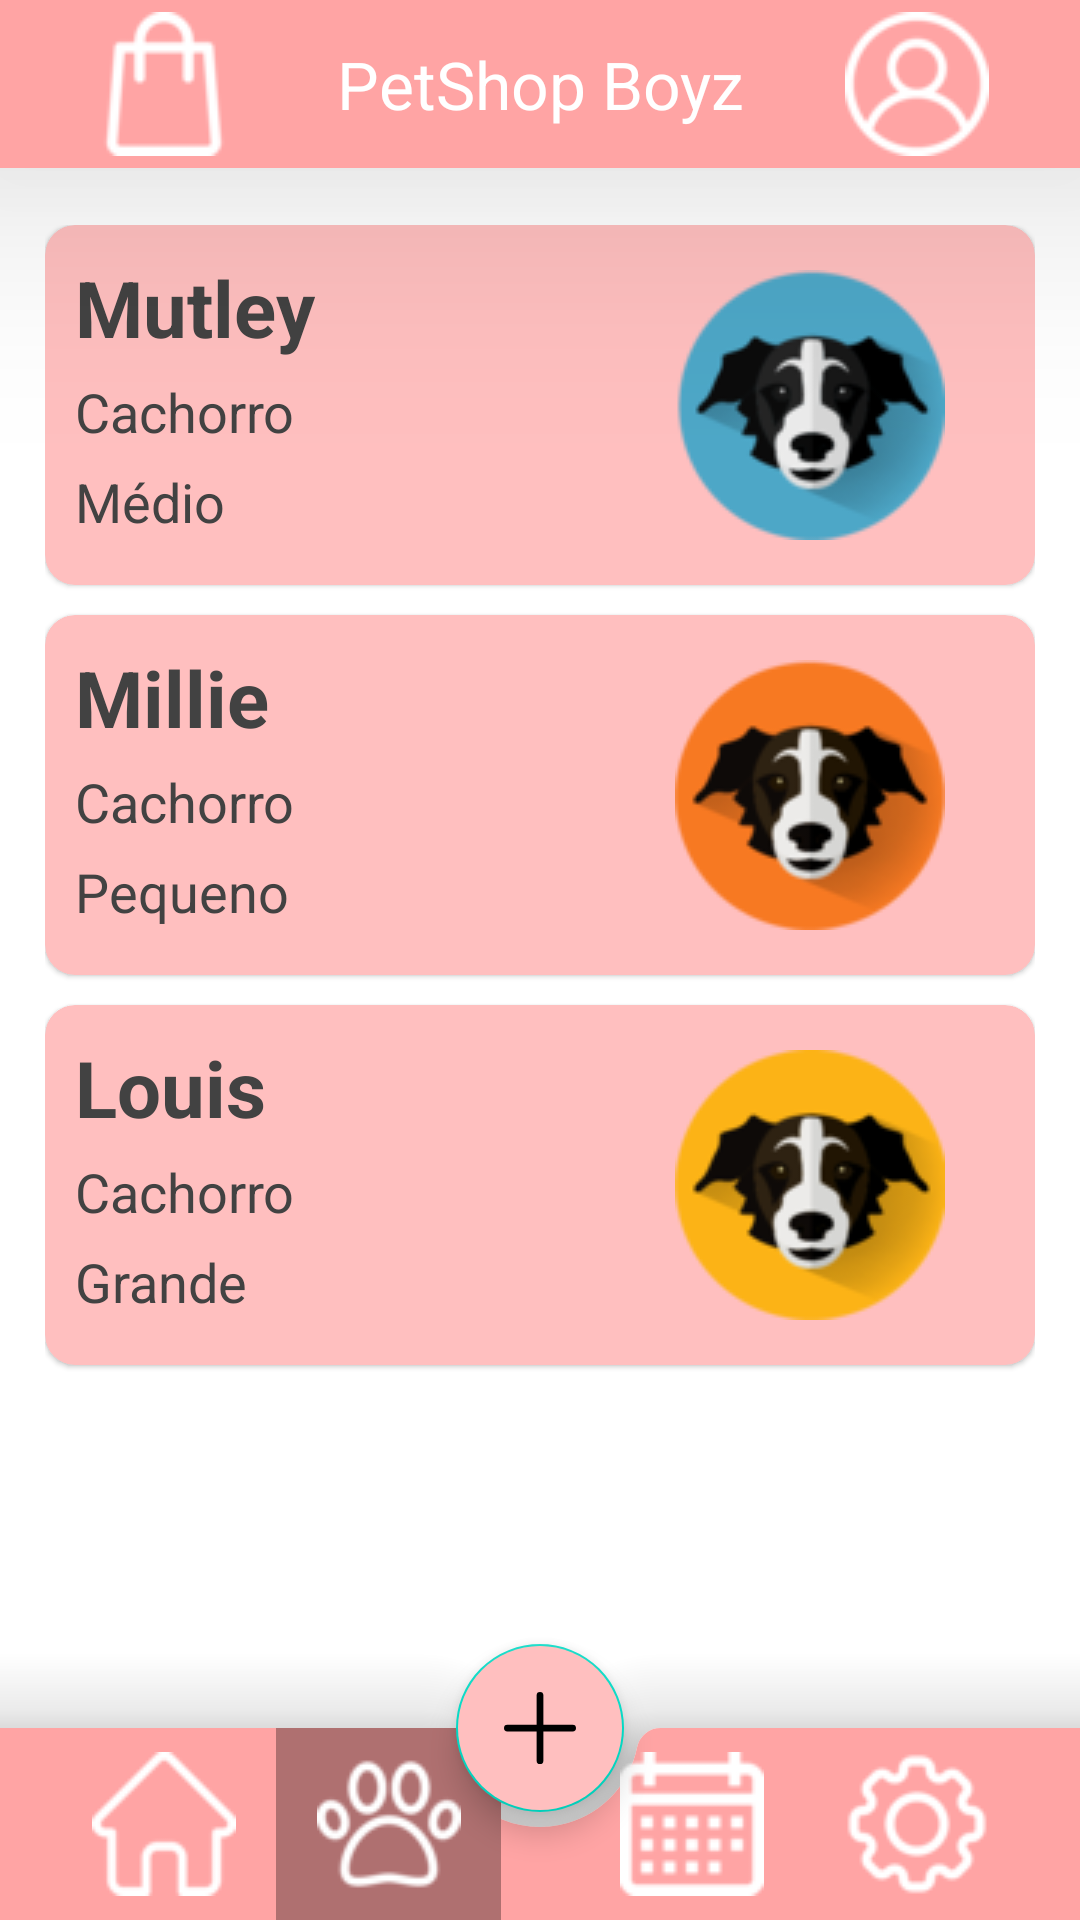

Screen size 1080px×1920px. Icon name, then its center in pixels as (x,y):
add: (540,1728)
calendar: (691,1824)
home: (164,1824)
pet: (811,405), (810,795), (810,1185), (388,1824)
setting: (917,1824)
user: (917,84)
